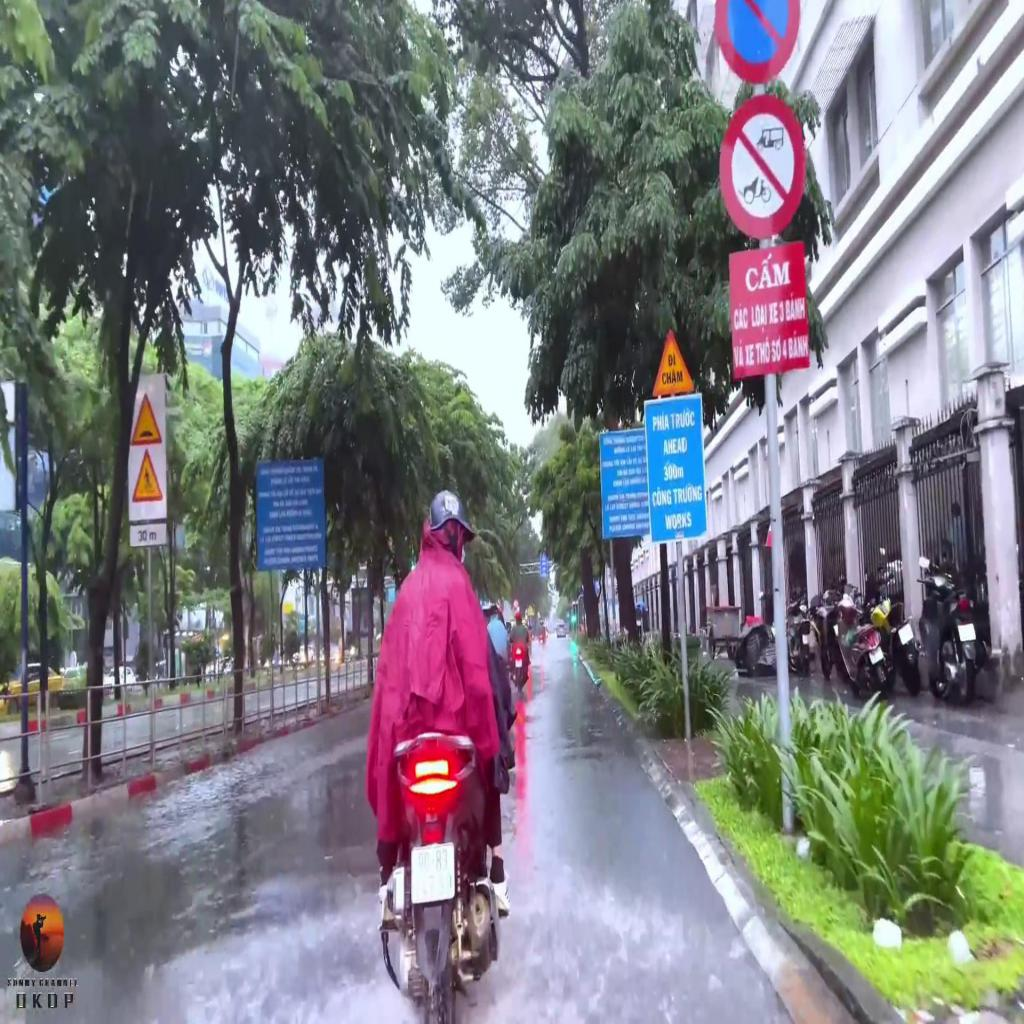cam_cac_loai_xe_3_banh: (717, 91, 808, 243)
cam_do_xe: (713, 0, 802, 85)
chu_y_nguoi_di_bo_cat_ngang: (130, 442, 165, 500)
di_cham: (651, 324, 695, 399)
duong_co_song_map_mo_nhan_tao: (128, 389, 163, 448)
khac: (643, 394, 708, 542), (130, 524, 166, 546)
